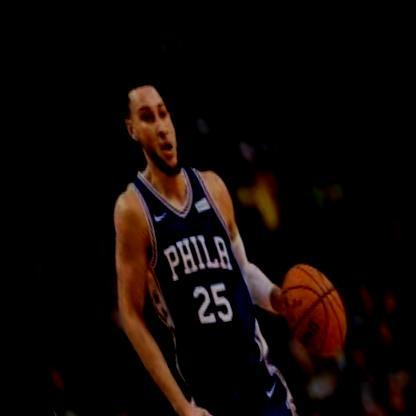basketball: (272, 237, 359, 352)
